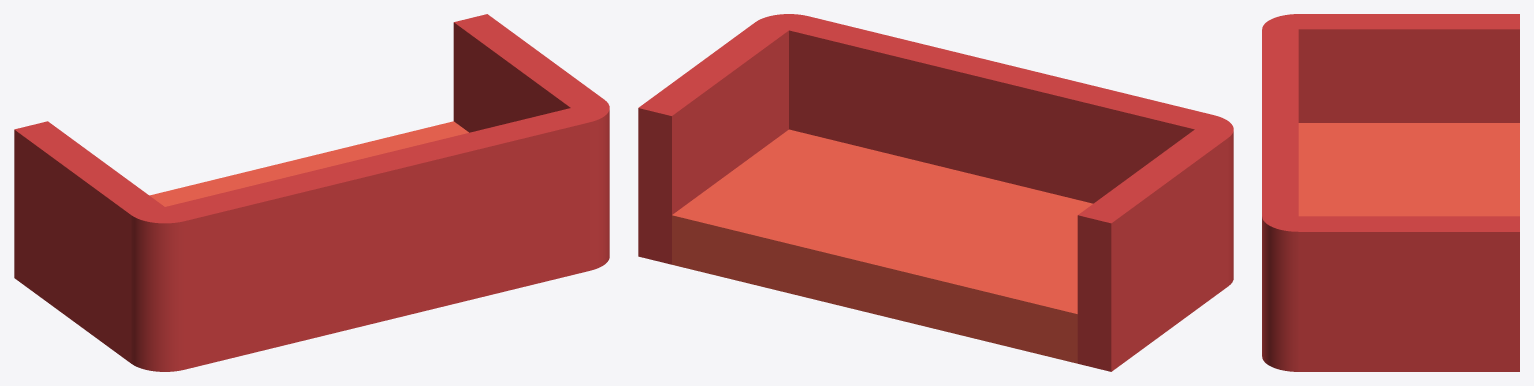
The model's file is balcony1.obj.
3 views of the same model, side by side, from view 1: azimuth 30°, elevation 25°; view 2: azimuth 150°, elevation 25°; view 3: azimuth 270°, elevation 25° (orthographic). The views are drawn at different scales.
Parts seen in each view (by area): view 1: mergedBlocks; view 2: mergedBlocks; view 3: mergedBlocks.
Boxes of the visible parts, x1,y1,x2,y2 form: mergedBlocks: [14, 14, 609, 371]; mergedBlocks: [638, 14, 1233, 371]; mergedBlocks: [1262, 14, 1519, 371].
Size of the model in its own units: 1 by 0.3 by 0.5.
